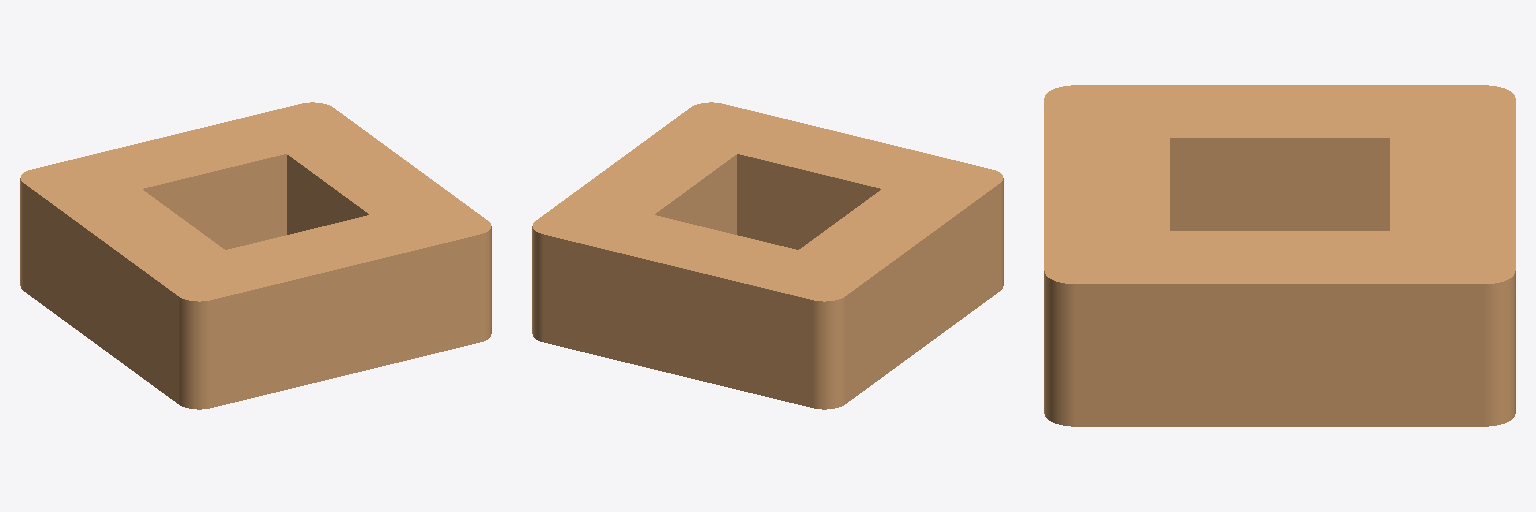
URDF robot description (brick_wp_small):
<?xml version="1.0"?>
<robot name="brick_wp_small">
    <link name="brick_wp_small_origin">
        <visual>
            <geometry>
                <mesh filename="package://process_visualiser/resources/meshes_resized/brick_wp_150x150mm.stl"
                      scale="1 1 1"/>
            </geometry>
            <material name="ABS" >
                <color rgba="0.9 0.7 0.5 1.0" />
            </material>
        </visual>
        <inertial>
            <origin xyz="0 0 1" rpy="0 0 0"/>
            <mass value="1"/>
            <inertia
                    ixx="1.0" ixy="0.0" ixz="0.0"
                    iyy="1.0" iyz="0.0"
                    izz="1.0"/>
        </inertial>

    </link>
    <link name="world"/>

    <joint name="fixed" type="fixed">
        <parent link="world"/>
        <child link="brick_wp_small_origin"/>
    </joint>

    <gazebo reference="brick_wp_small_origin">
        <material>Gazebo/Red</material>
    </gazebo>

</robot>

--- Facts derived from the render (not from the file) ---
Views: 3 orthographic renders of the robot side by side, from view 1: azimuth 30°, elevation 25°; view 2: azimuth 150°, elevation 25°; view 3: azimuth 270°, elevation 25°.
Model brick_wp_small with 2 links and 1 joints (1 fixed), rooted at world, posed all joints at 0.
Links seen in each view (by area): view 1: brick_wp_small_origin; view 2: brick_wp_small_origin; view 3: brick_wp_small_origin.
Boxes of the visible links, <box> form: brick_wp_small_origin: <box>20,102,491,409</box>; brick_wp_small_origin: <box>532,102,1003,409</box>; brick_wp_small_origin: <box>1044,85,1515,426</box>.
Bounding box of the posed robot: 0.15 × 0.15 × 0.05 m (x, y, z).
1 mesh visuals loaded from 1 distinct referenced files (1 binary STL).